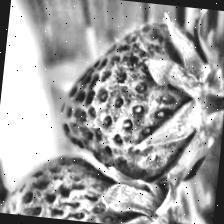Powdery Mildew Fruit: (52, 13, 224, 190), (2, 147, 175, 224)
